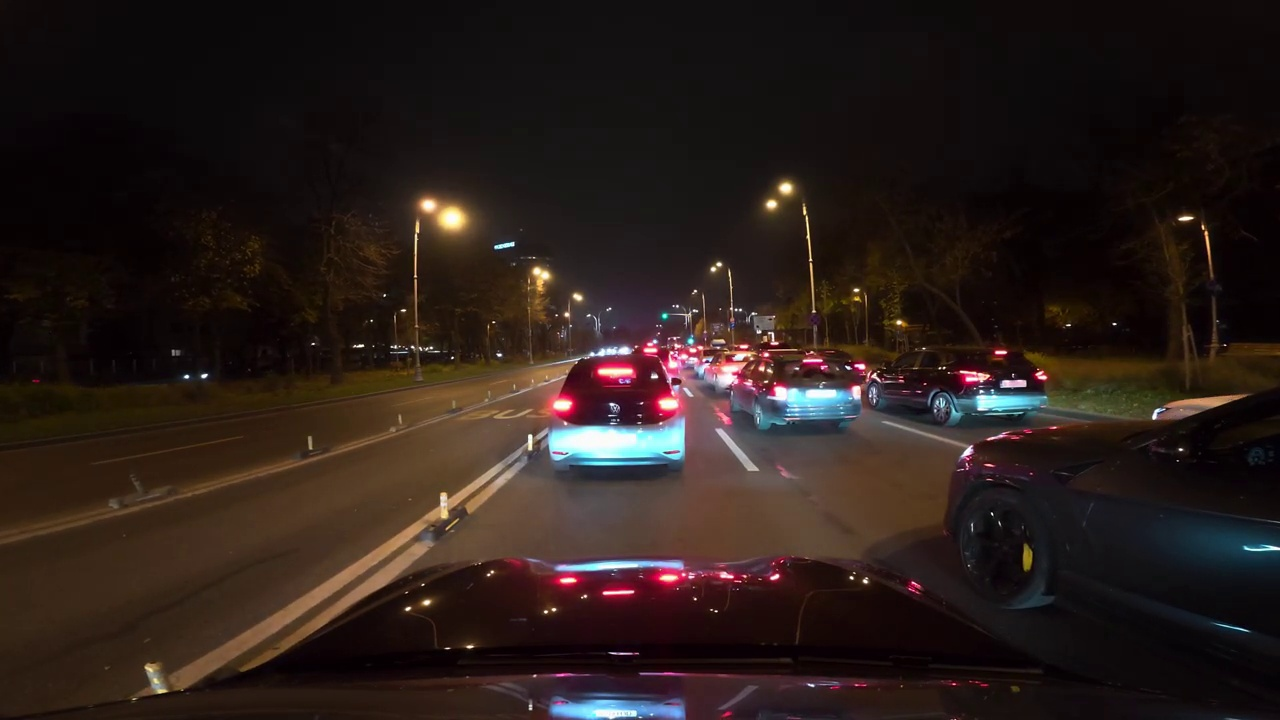acesa: (424, 201, 469, 235), (763, 179, 802, 216), (769, 179, 800, 206), (708, 259, 729, 280)
